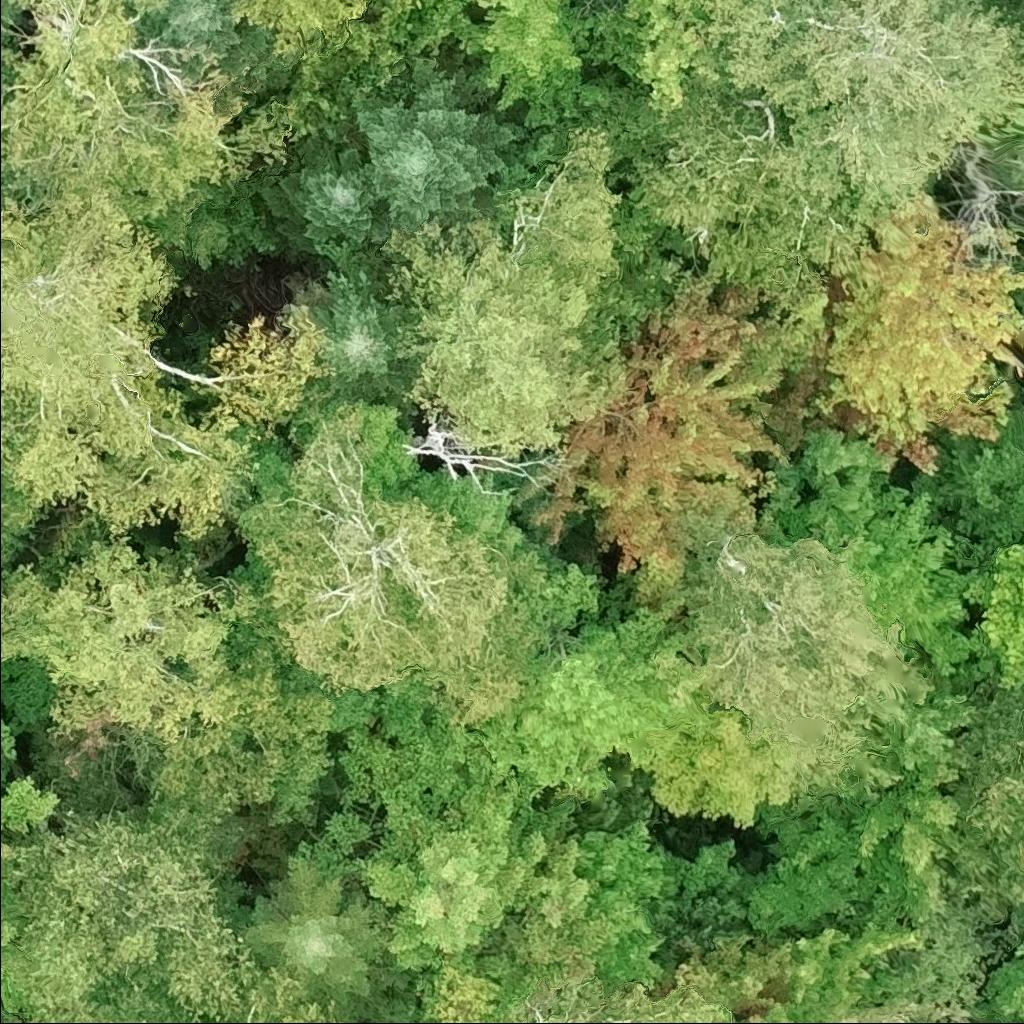crown: (232, 399, 547, 725), (0, 531, 334, 821), (528, 278, 819, 610), (0, 184, 264, 538), (590, 78, 941, 340), (370, 127, 640, 460), (348, 780, 680, 988), (694, 0, 1023, 202), (777, 216, 1023, 475), (0, 0, 260, 226), (0, 801, 260, 1023), (461, 603, 708, 806), (663, 530, 894, 744), (344, 63, 529, 231), (240, 850, 418, 1023), (415, 946, 763, 1023), (457, 0, 612, 142), (198, 301, 338, 447), (307, 238, 422, 414), (258, 133, 388, 261), (582, 0, 724, 114), (131, 0, 292, 86), (228, 0, 379, 63), (188, 967, 353, 1023), (0, 774, 62, 864), (0, 468, 30, 566), (0, 705, 21, 790), (0, 0, 23, 41), (0, 910, 1, 917)
